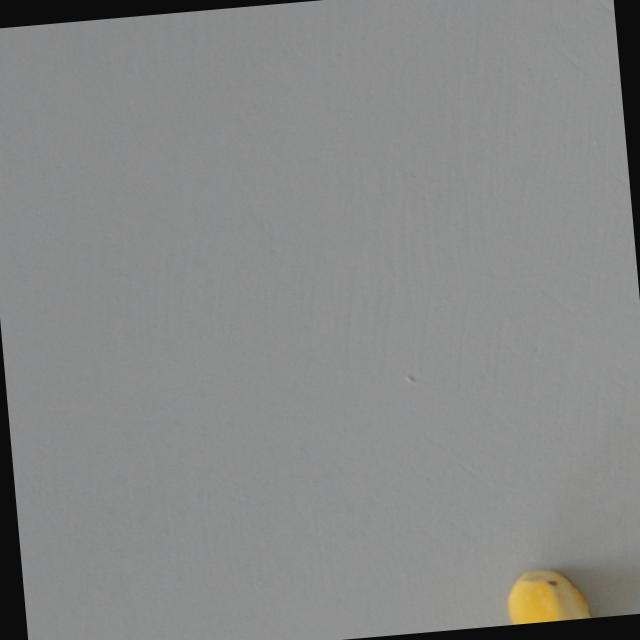punto_negro: (499, 561, 607, 625)
